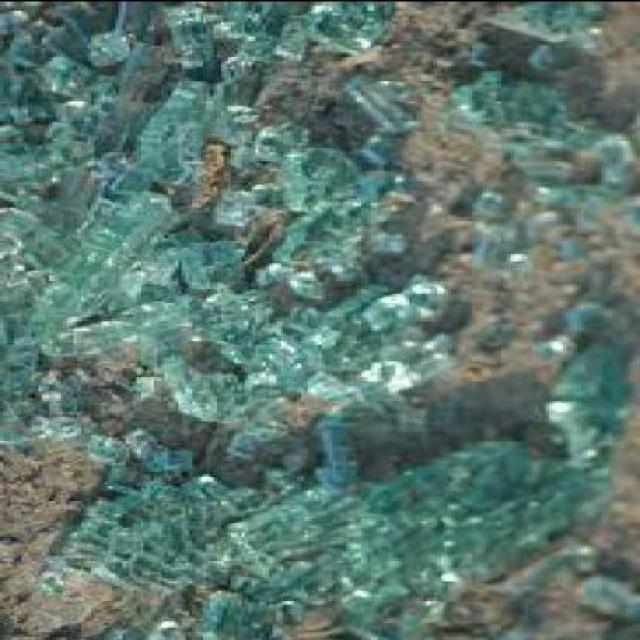GLASS: (332, 434, 616, 598), (42, 468, 248, 592), (269, 183, 402, 283), (4, 74, 111, 183), (241, 489, 339, 603), (119, 81, 221, 185), (552, 343, 638, 465), (49, 299, 200, 367), (73, 192, 189, 278), (294, 276, 401, 364), (490, 140, 616, 211), (349, 272, 448, 354), (497, 2, 605, 76), (4, 299, 81, 401), (147, 352, 262, 417), (458, 77, 574, 141), (283, 149, 399, 213), (343, 70, 423, 162), (349, 348, 445, 424), (535, 116, 637, 181), (21, 265, 125, 326), (3, 202, 66, 302), (217, 2, 321, 62), (176, 220, 256, 297), (4, 30, 87, 99), (151, 2, 231, 72), (3, 386, 91, 446), (202, 100, 273, 174), (3, 163, 102, 215), (231, 398, 318, 457), (472, 190, 531, 276), (196, 283, 273, 345), (532, 195, 608, 257), (304, 2, 396, 53), (198, 591, 288, 638), (294, 362, 377, 412), (552, 296, 638, 342), (343, 603, 449, 639), (270, 316, 332, 369), (207, 61, 265, 113), (262, 118, 312, 178), (221, 184, 287, 227), (126, 431, 203, 466), (588, 574, 638, 621), (73, 434, 144, 466), (4, 3, 62, 37), (122, 366, 168, 406), (326, 434, 360, 486), (500, 608, 551, 638), (98, 34, 140, 66), (276, 471, 318, 489), (154, 626, 189, 639)
